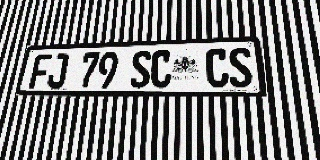7: (78, 52, 100, 88)
9: (97, 52, 119, 88)
C: (206, 48, 229, 88), (150, 50, 172, 88)
F: (29, 54, 52, 88)
J: (46, 53, 69, 88)
S: (228, 47, 253, 88), (130, 51, 151, 88)
